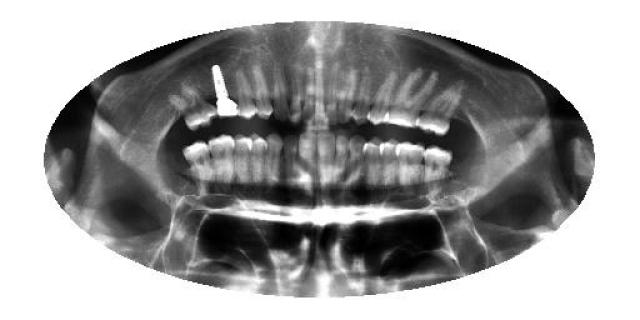Implant: (210, 62, 240, 120)
